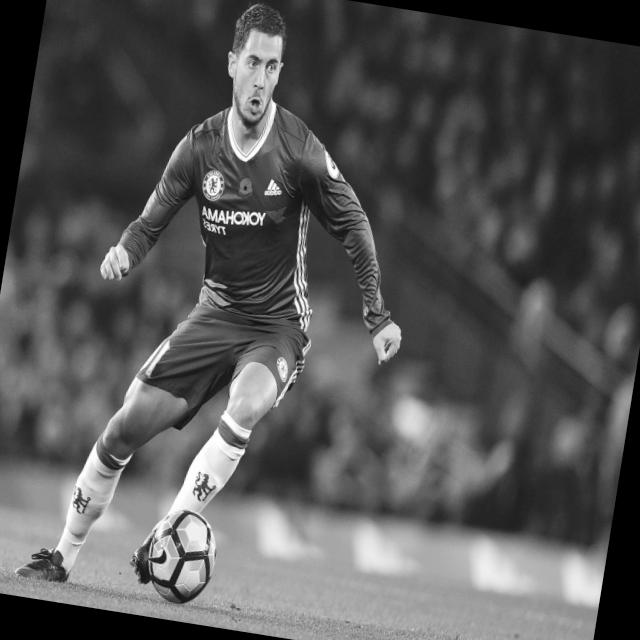football: (130, 512, 217, 606)
